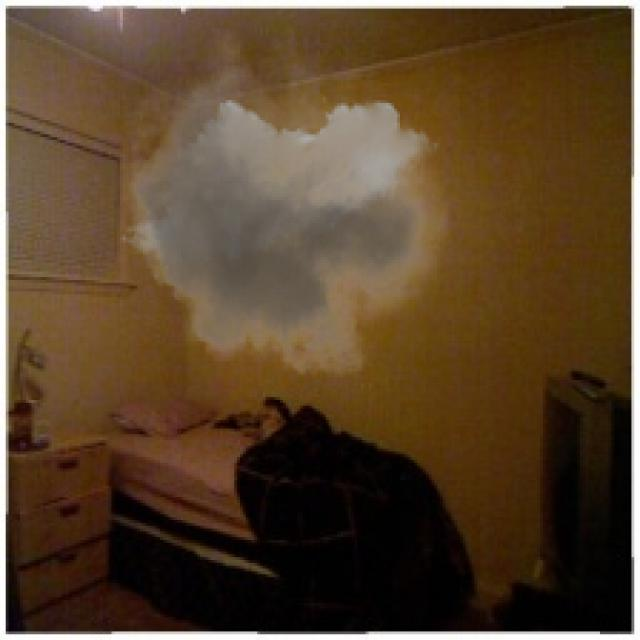smoke: (109, 26, 452, 394)
